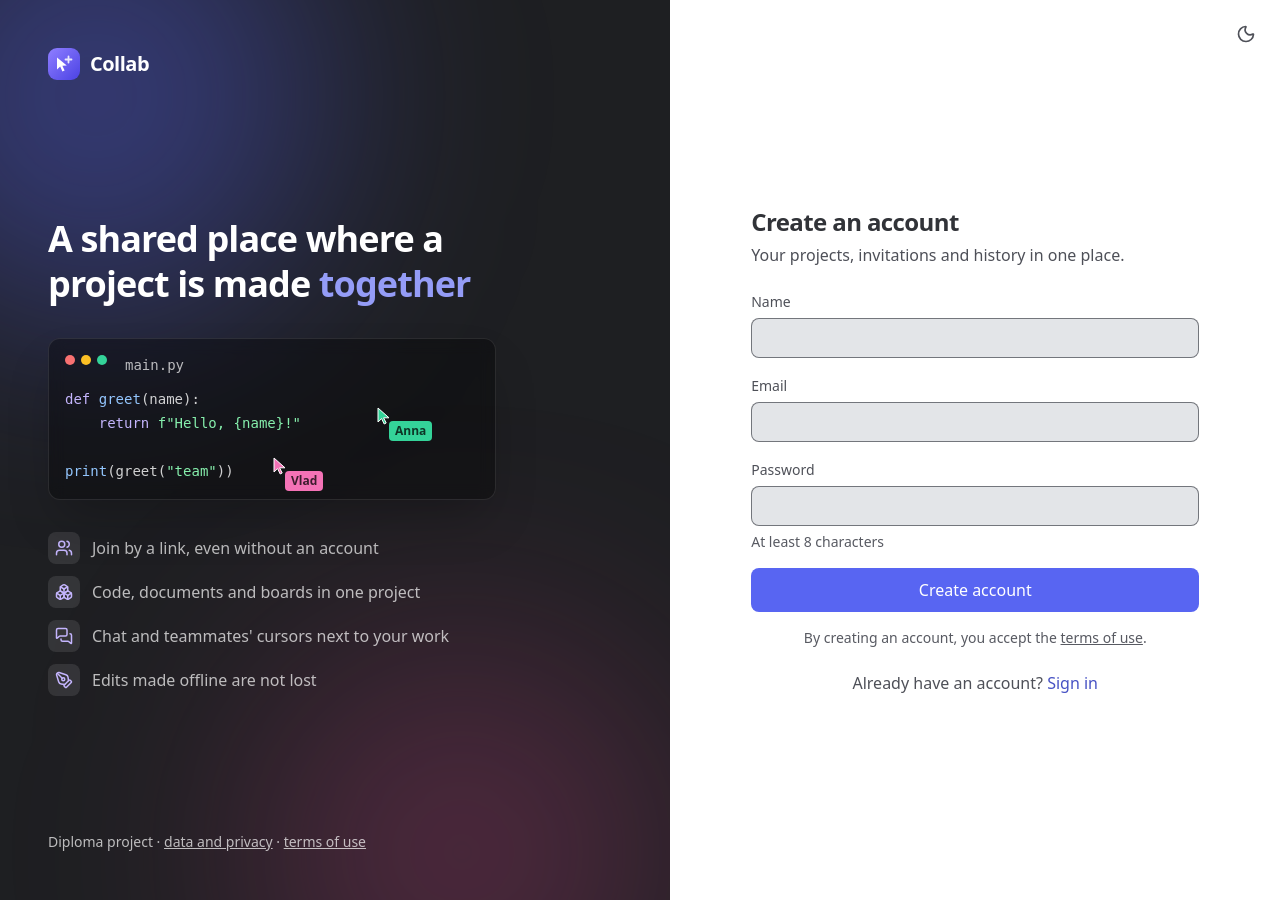
Test: RegisterPage › keeps what was typed and explains a taken address
The image size is (1280, 900).
Type "Anna" into the field labelled "Name" at (975, 338), box [751, 318, 1199, 358]
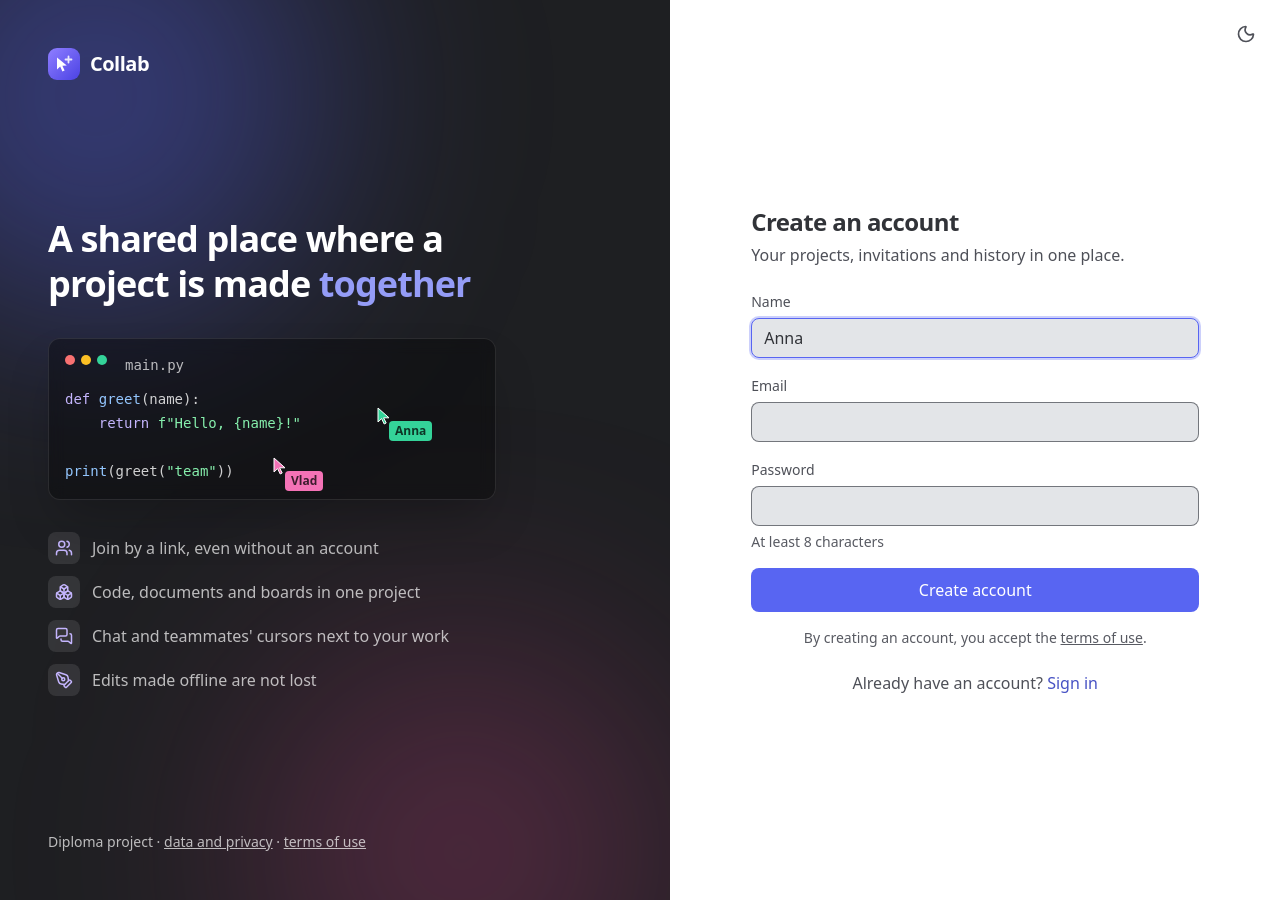
Type "anna@example.com" into the field labelled "Email" at (975, 422), box [751, 402, 1199, 442]
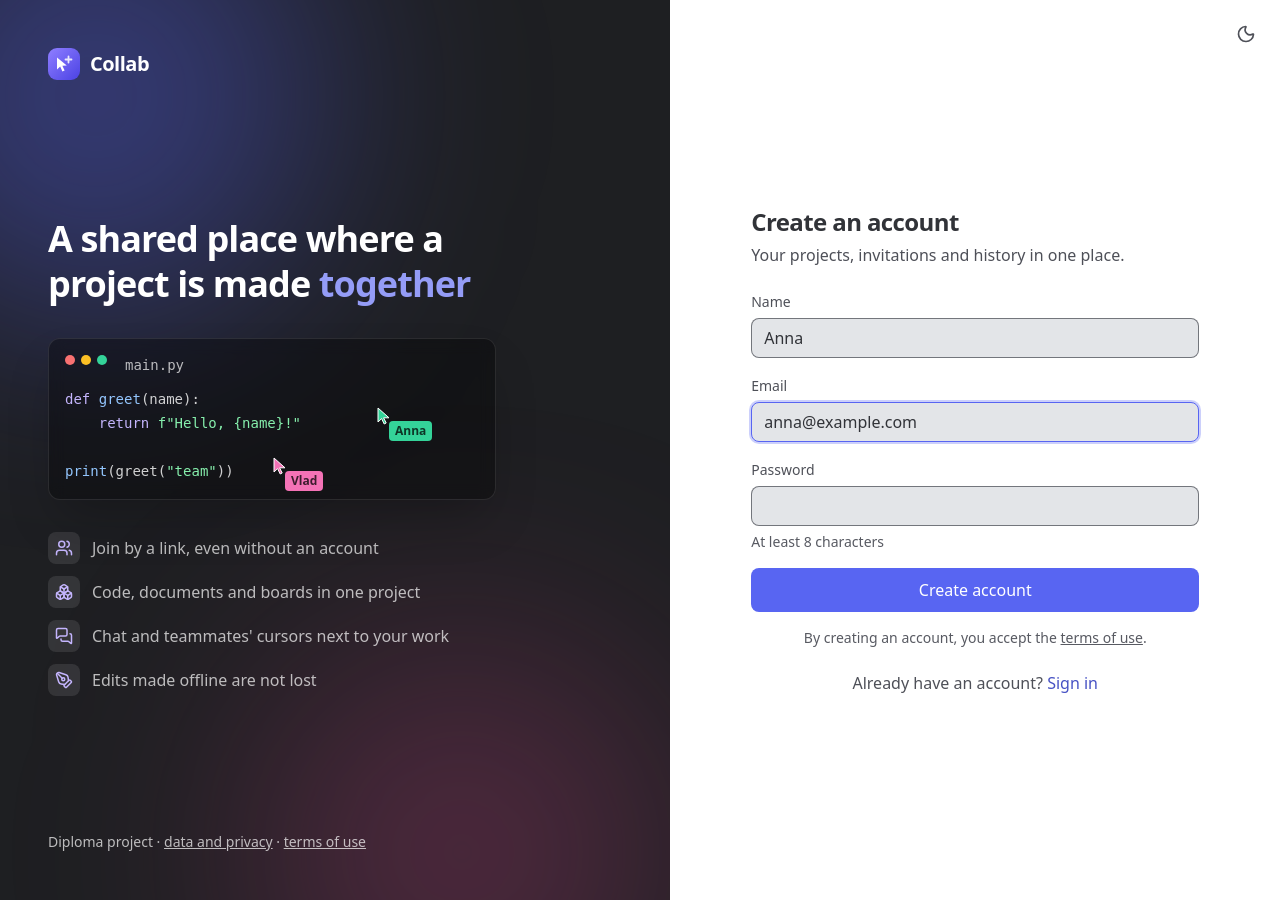
Type "password123" into the password field labelled "Password" at (975, 506), box [751, 486, 1199, 526]
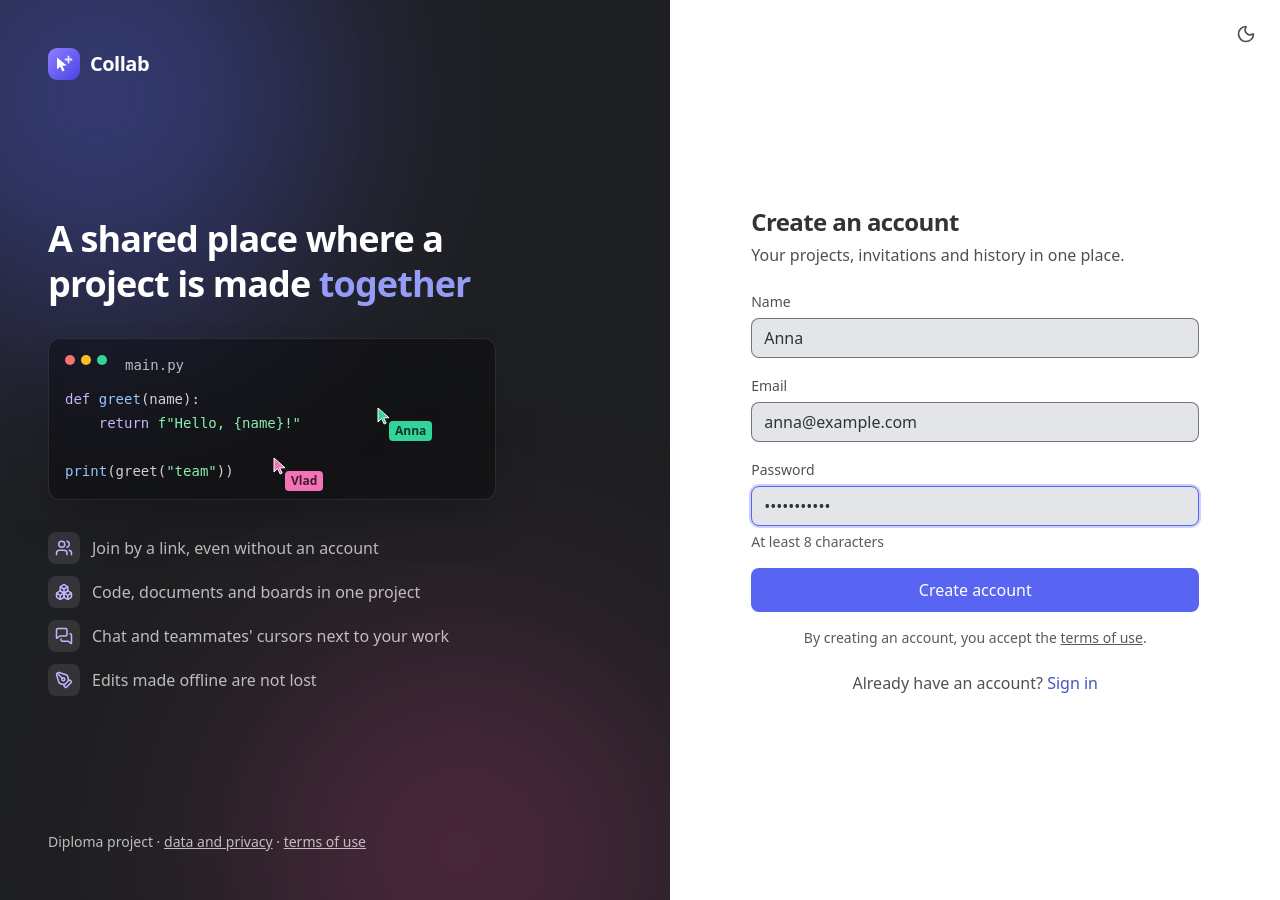
Click the button "Create account" at (975, 590), box [751, 568, 1199, 612]
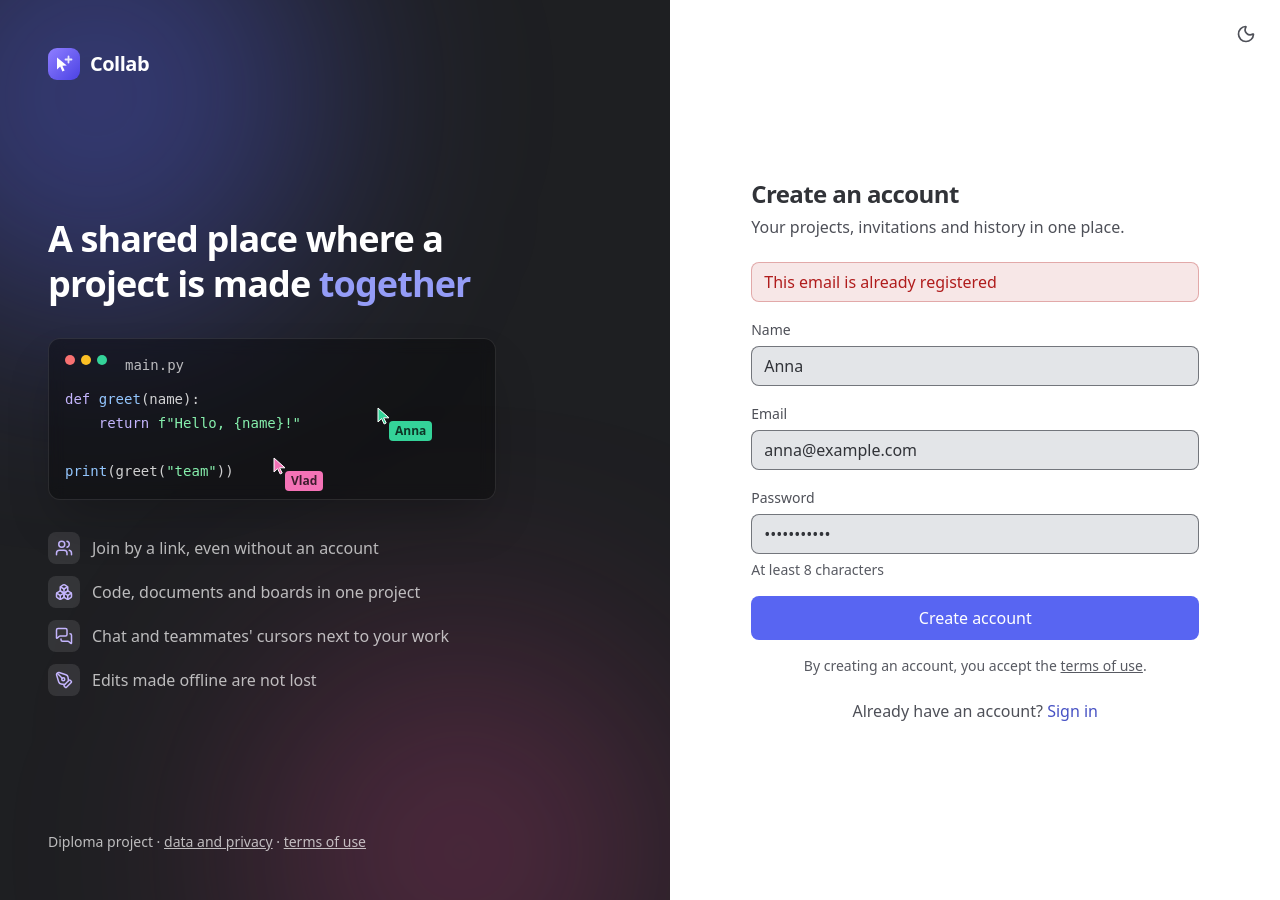
Expected: the message reads "This email is already registered", [764, 271, 997, 293]
